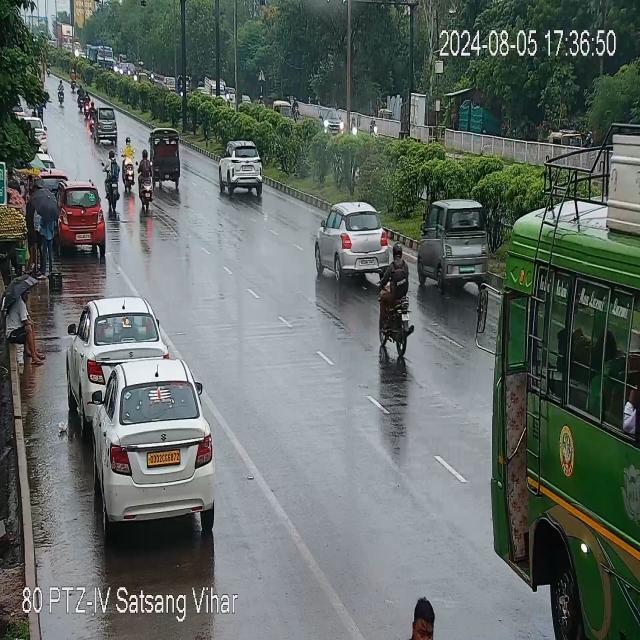2-wheelers: (379, 238, 416, 366), (137, 160, 157, 212), (104, 151, 122, 207), (123, 141, 138, 194), (75, 86, 93, 117), (56, 78, 66, 107), (85, 93, 96, 119), (370, 106, 377, 134), (70, 68, 76, 93)
auto: (150, 130, 185, 188), (546, 131, 592, 147)
bus: (477, 190, 638, 550)
car: (93, 358, 218, 529), (70, 295, 162, 409), (418, 198, 495, 289), (311, 198, 392, 278), (56, 186, 108, 253), (217, 139, 266, 197), (319, 105, 345, 138)
pedestrian: (3, 280, 49, 368), (23, 165, 60, 274)
